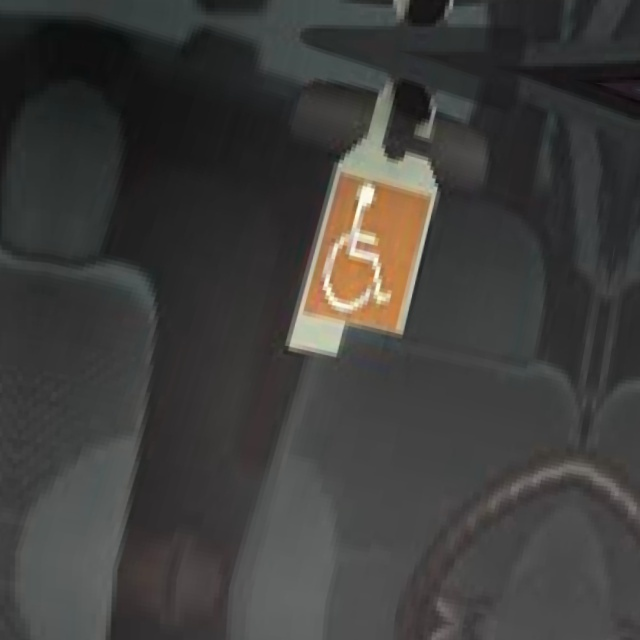ISA: (314, 173, 416, 321)
